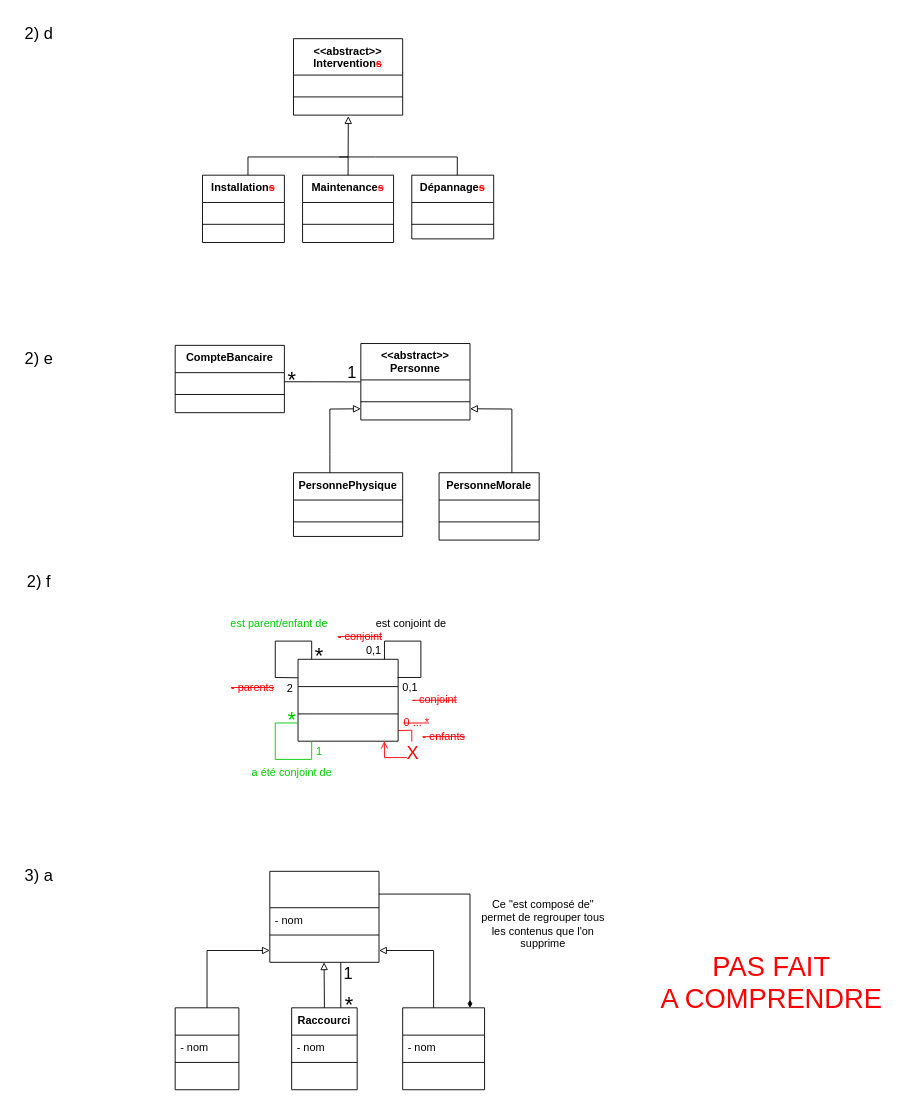
Image size: 909x1107. Some labels were removed from this diagram. The shapes that lost their labels are listed below. From the top down, each one's box as (x1, y1, x2, y2) in pixels, then its label:
(297, 658, 398, 741): Personne
(269, 870, 379, 962): <<abstract>> Contenu
(174, 1007, 239, 1090): Fichier
(402, 1007, 485, 1090): Répertoire
